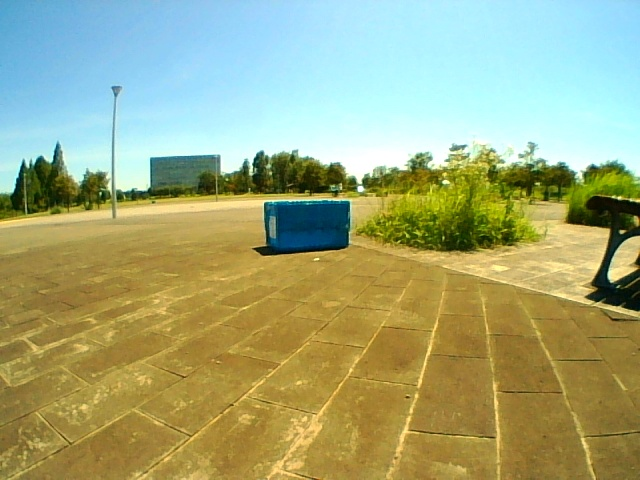blue_box: (266, 203, 350, 249)
tag: (269, 215, 276, 239)
